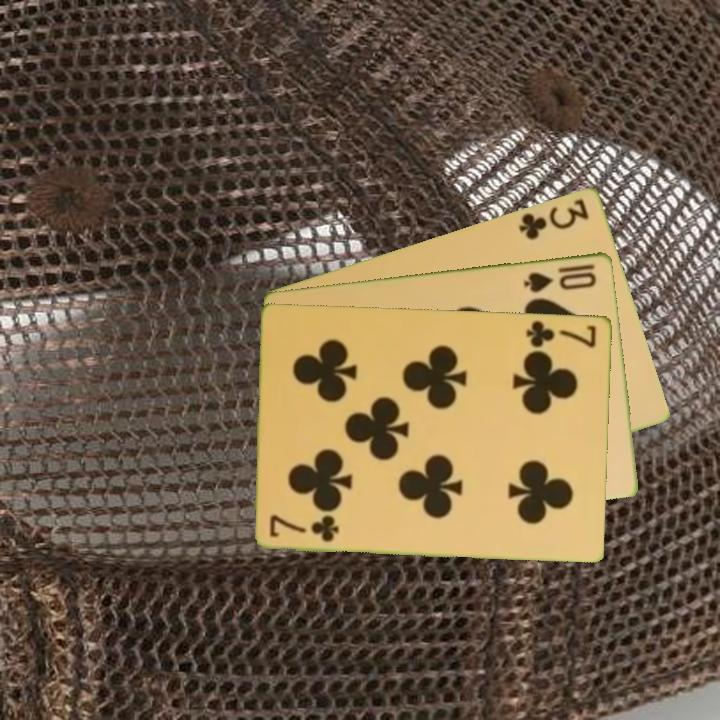10s: (520, 260, 600, 295)
3c: (515, 194, 593, 242)
7c: (522, 316, 600, 351), (266, 512, 342, 544)
